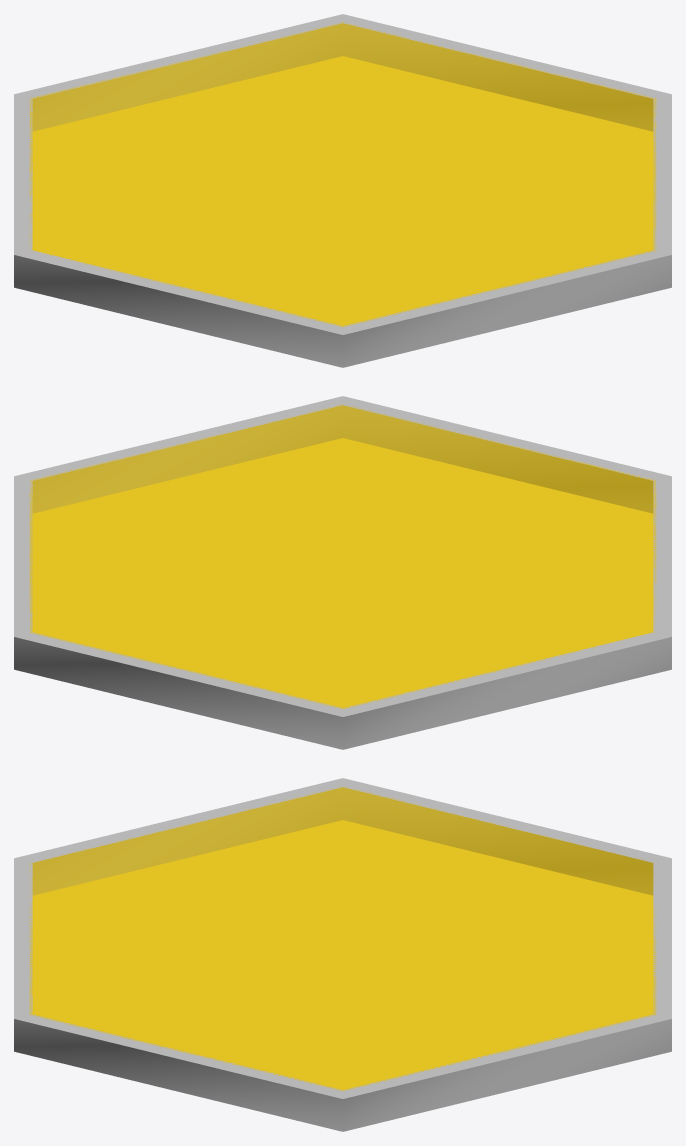
File: HexUnit(light orange).fbx
3 views of the same model, one above another, from view 1: azimuth 30°, elevation 25°; view 2: azimuth 150°, elevation 25°; view 3: azimuth 270°, elevation 25° (orthographic).
Visible parts, largest first — view 1: 封顶_2, 封顶_1, 管道; view 2: 封顶_2, 封顶_1, 管道; view 3: 封顶_2, 封顶_1, 管道.
Boxes of the visible parts, bbox=[...] form: 封顶_2: bbox=[29, 22, 656, 327]; 封顶_1: bbox=[33, 56, 652, 325]; 管道: bbox=[14, 14, 671, 367]; 封顶_2: bbox=[29, 404, 656, 709]; 封顶_1: bbox=[33, 438, 652, 707]; 管道: bbox=[14, 396, 671, 749]; 封顶_2: bbox=[29, 786, 656, 1091]; 封顶_1: bbox=[33, 820, 652, 1089]; 管道: bbox=[14, 778, 671, 1131].
Bounding box in the file's own units: 2.1 × 0.1 × 1.82.
